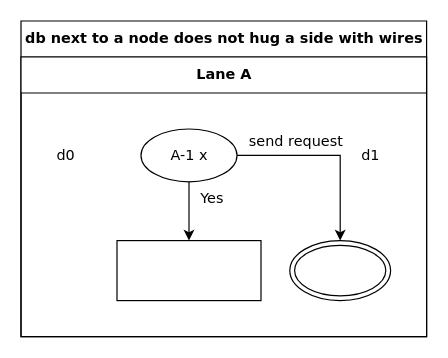
This 448x358 diagram has some shape labels left out. The centre of each missing label's shape, as x and y in pixels:
"A-2 x" goes at pixel 340 270.
"A-3 x" goes at pixel 188 270.
